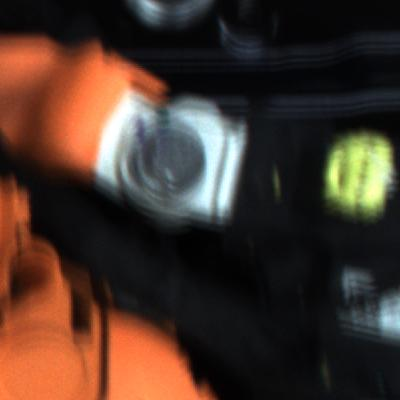nut_b: (125, 115, 212, 207)
